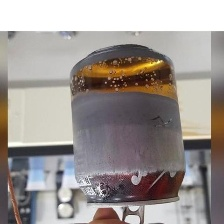can: (62, 37, 188, 213)
